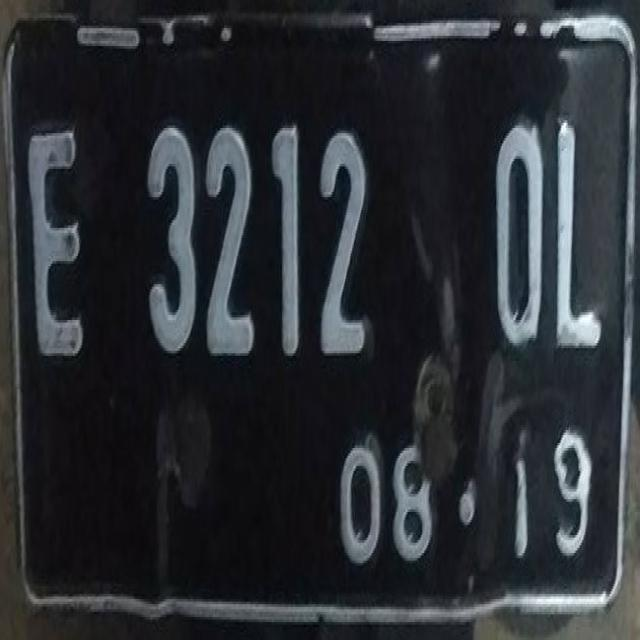plate: (4, 12, 631, 613)
